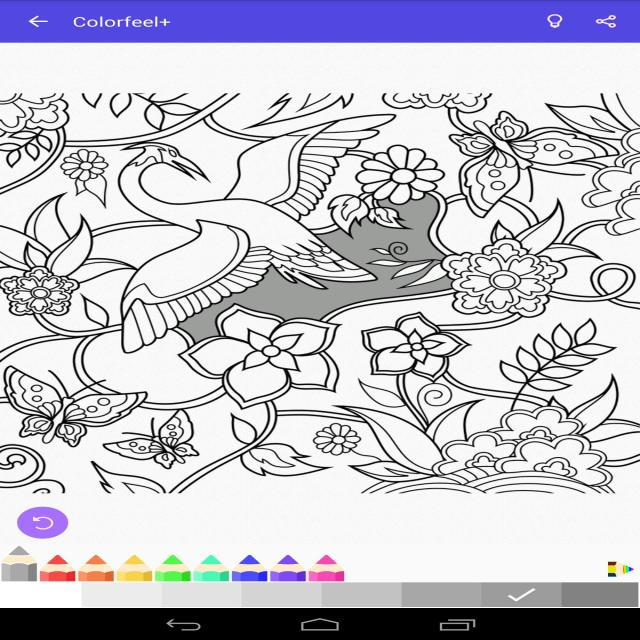button: (16, 504, 70, 541), (589, 12, 622, 32), (16, 13, 53, 30), (548, 12, 566, 31)
heading: (69, 13, 176, 30)
image: (3, 43, 637, 582), (1, 582, 640, 608)
